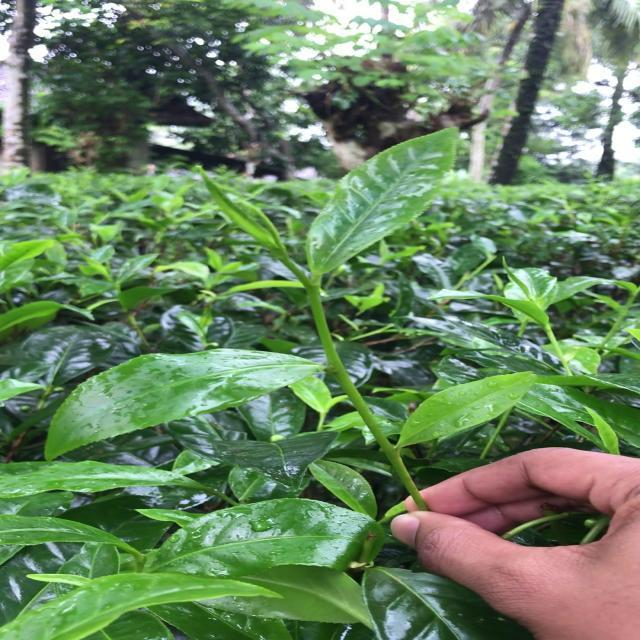Stem: (308, 284, 319, 300)
